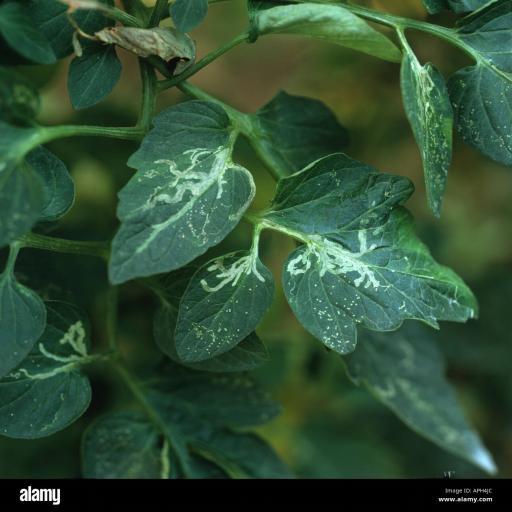disease_tomato: (270, 146, 482, 354), (102, 98, 257, 286), (173, 248, 276, 366)
